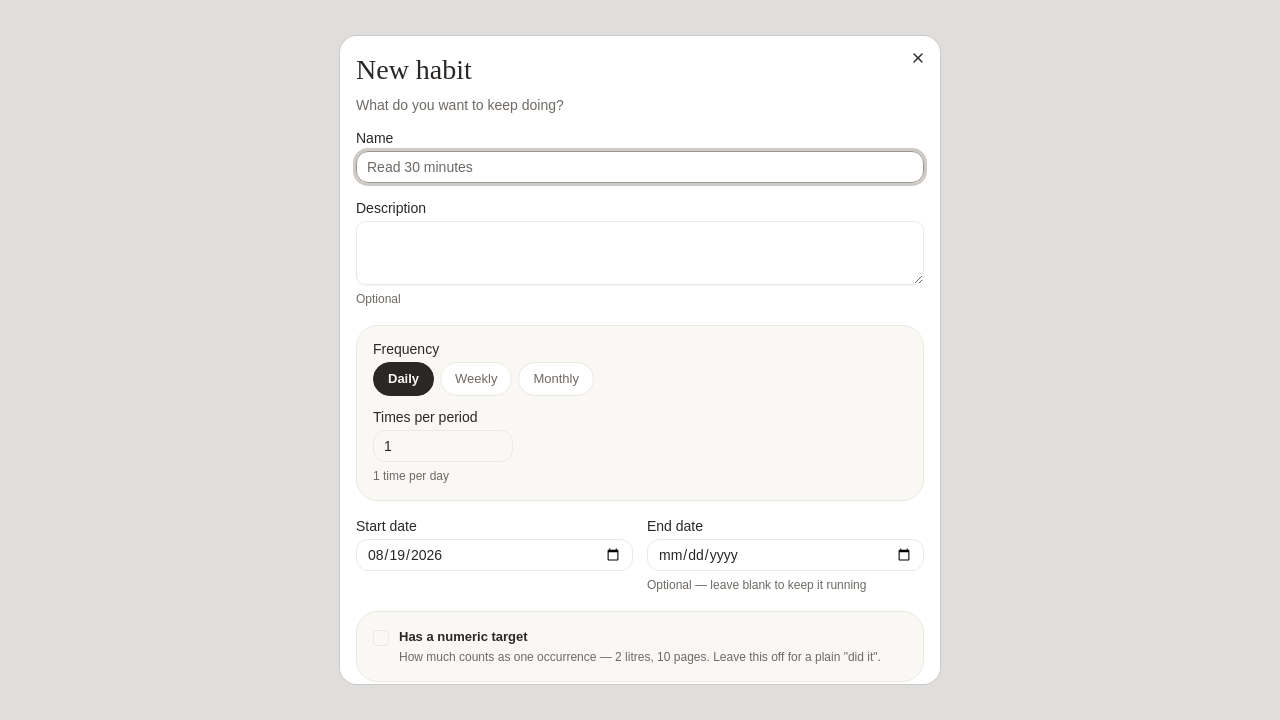
Test: HabitFormDialog › refuses an end date before the start date, as the service would
Step 1. Type "Run" into the field labelled "Name" → (640, 167), box x1=356 y1=151 x2=924 y2=183
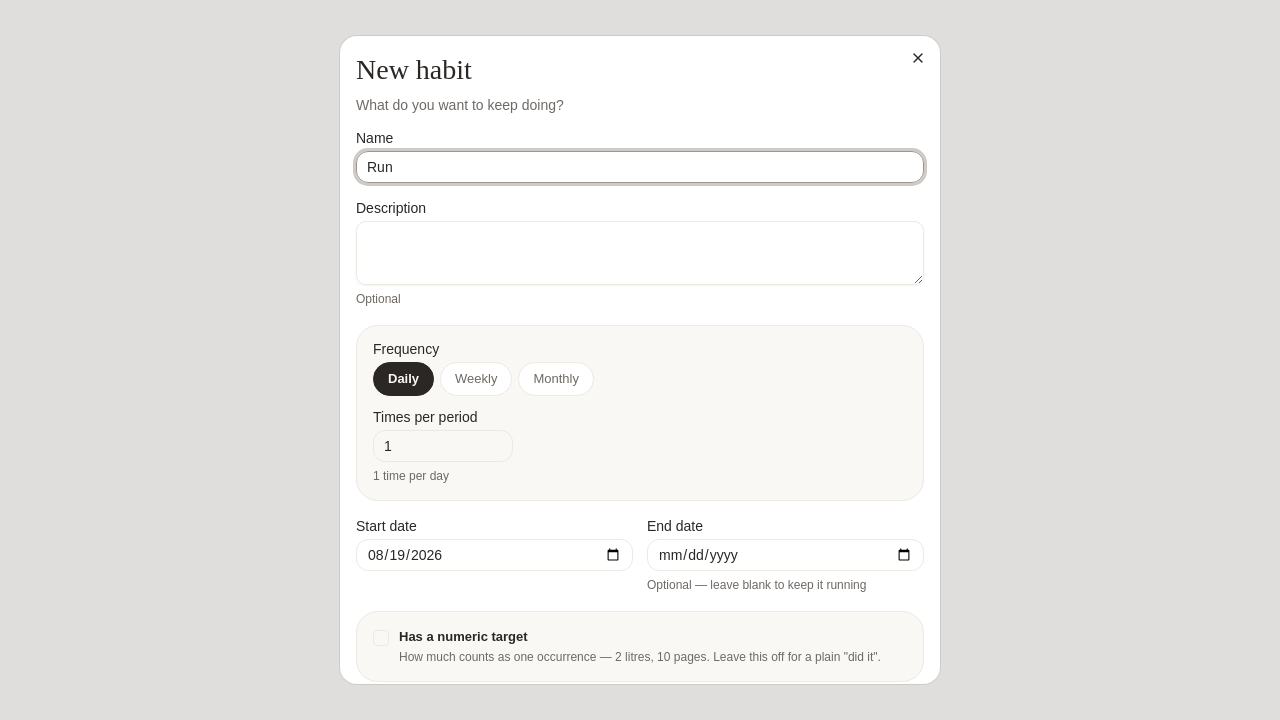
Step 2. Type "2026-08-01" into the date field labelled "End date" → (786, 555), box x1=647 y1=539 x2=924 y2=571
(page scrolled)
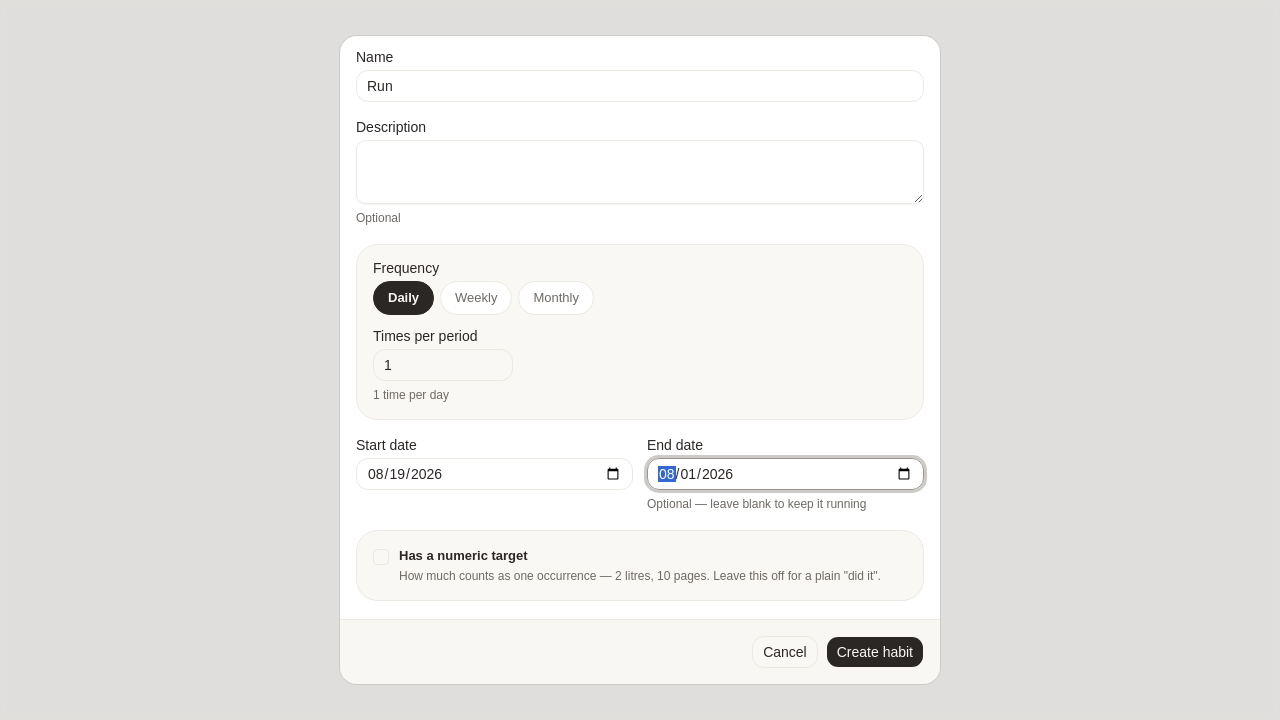
Step 3. Click the button "Create habit" → (875, 652), box x1=826 y1=636 x2=924 y2=668
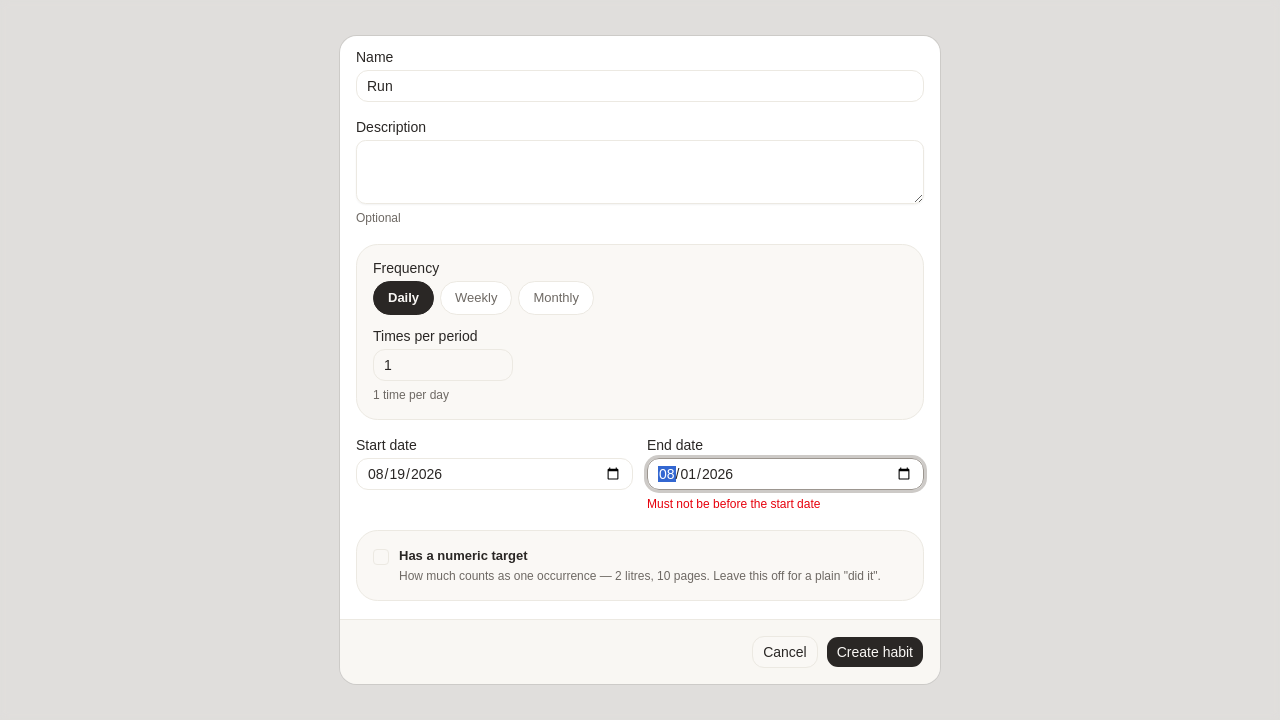
expect the text "Must not be before the start date" is shown: met, box x1=647 y1=497 x2=820 y2=511
